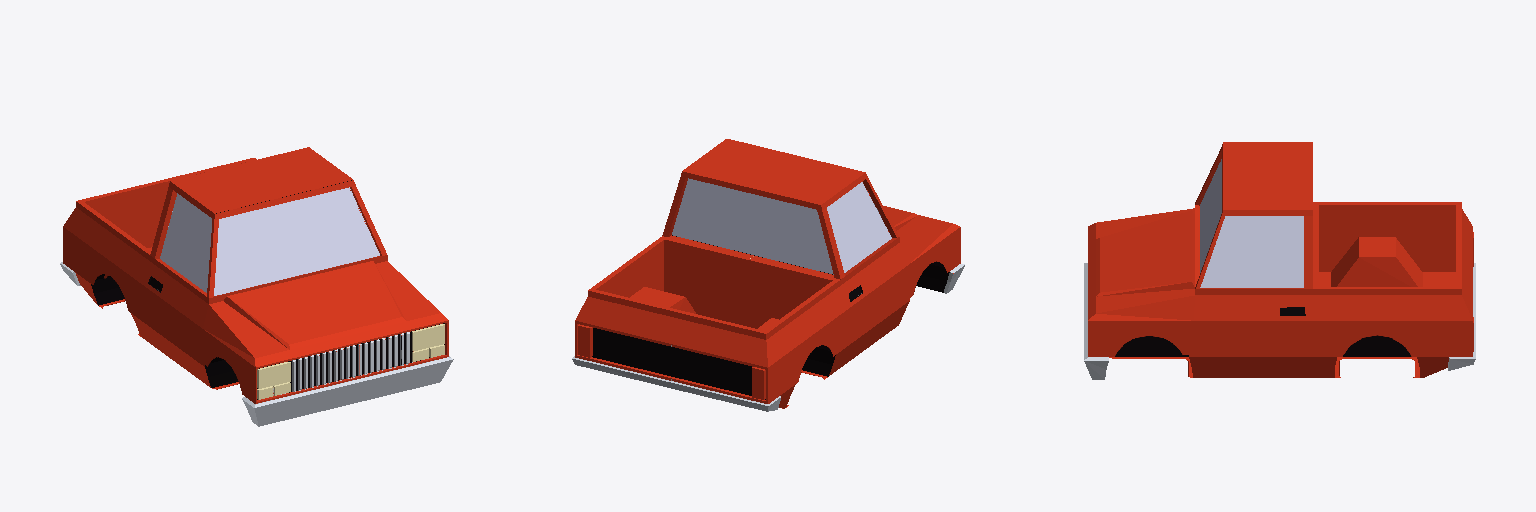
3 views of the same model, side by side, from view 1: azimuth 30°, elevation 25°; view 2: azimuth 150°, elevation 25°; view 3: azimuth 270°, elevation 25° (orthographic).
Visible parts, largest first — view 1: Backed; view 2: Backed; view 3: Backed.
Boxes of the visible parts, x1=… form: Backed: x1=60, y1=147, x2=453, y2=426; Backed: x1=572, y1=139, x2=964, y2=411; Backed: x1=1084, y1=142, x2=1475, y2=379.
Bounding box in the file's own units: 2.38 × 1.83 × 4.06.
1 materials, 1 textured.